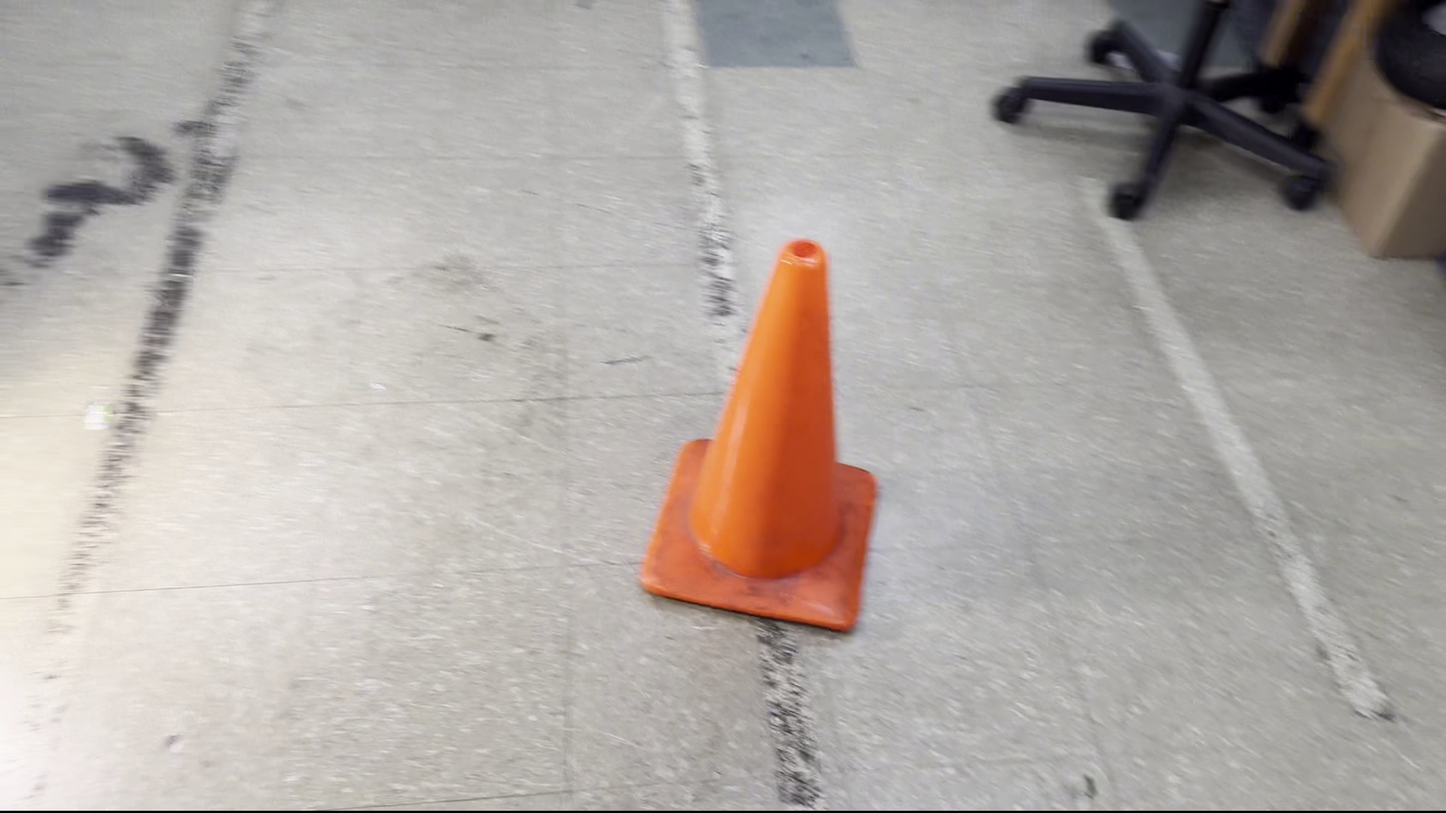traffic_cone: (638, 237, 879, 633)
